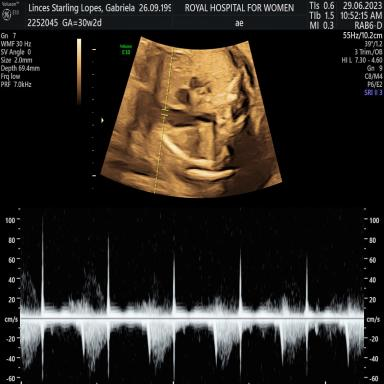Ultrasound-Waves: (28, 212, 363, 384)
